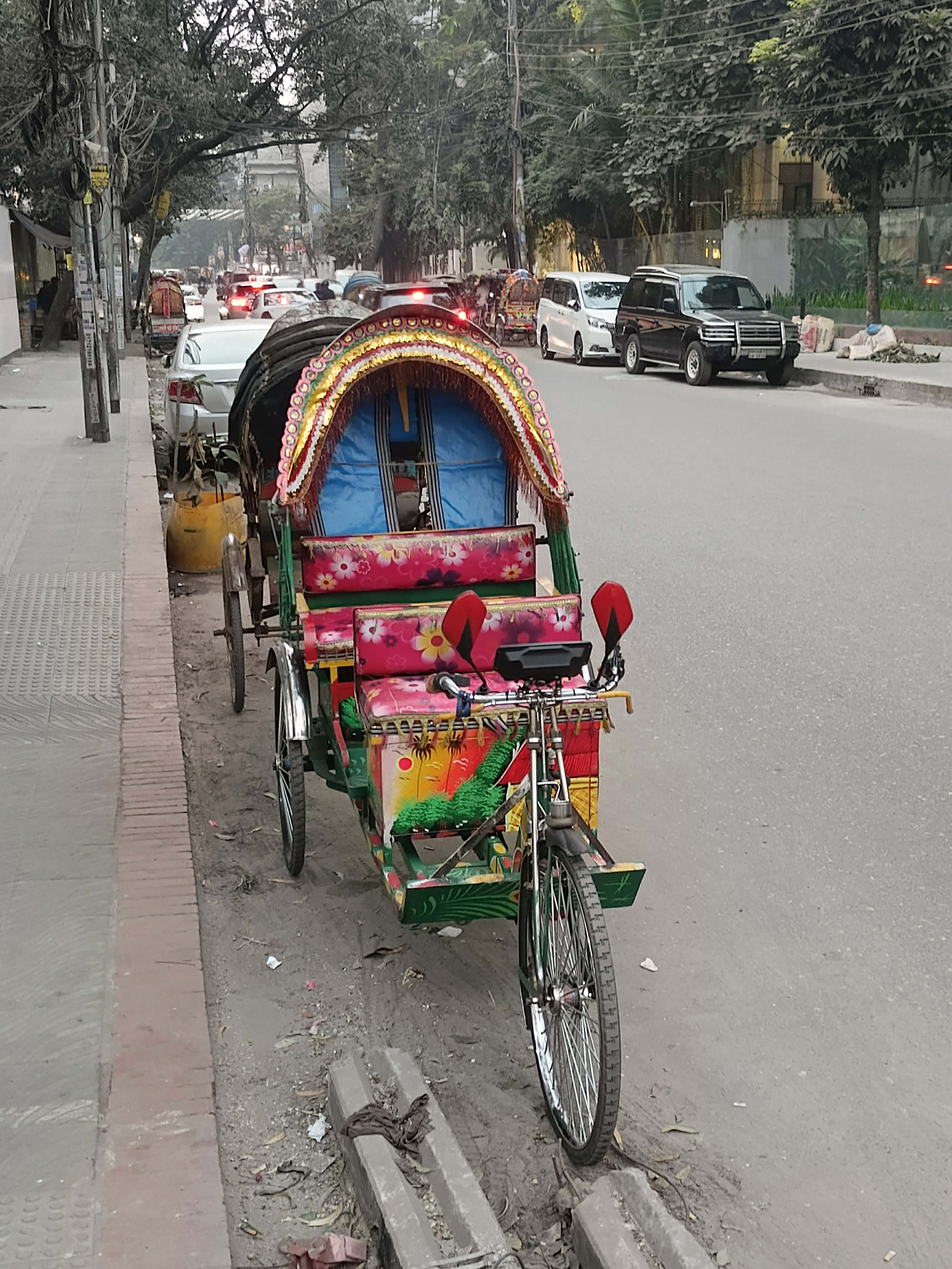auto-ricksaw: (237, 297, 687, 1237), (137, 254, 187, 336), (481, 269, 542, 333)
private car: (547, 263, 817, 400), (137, 307, 270, 463)
